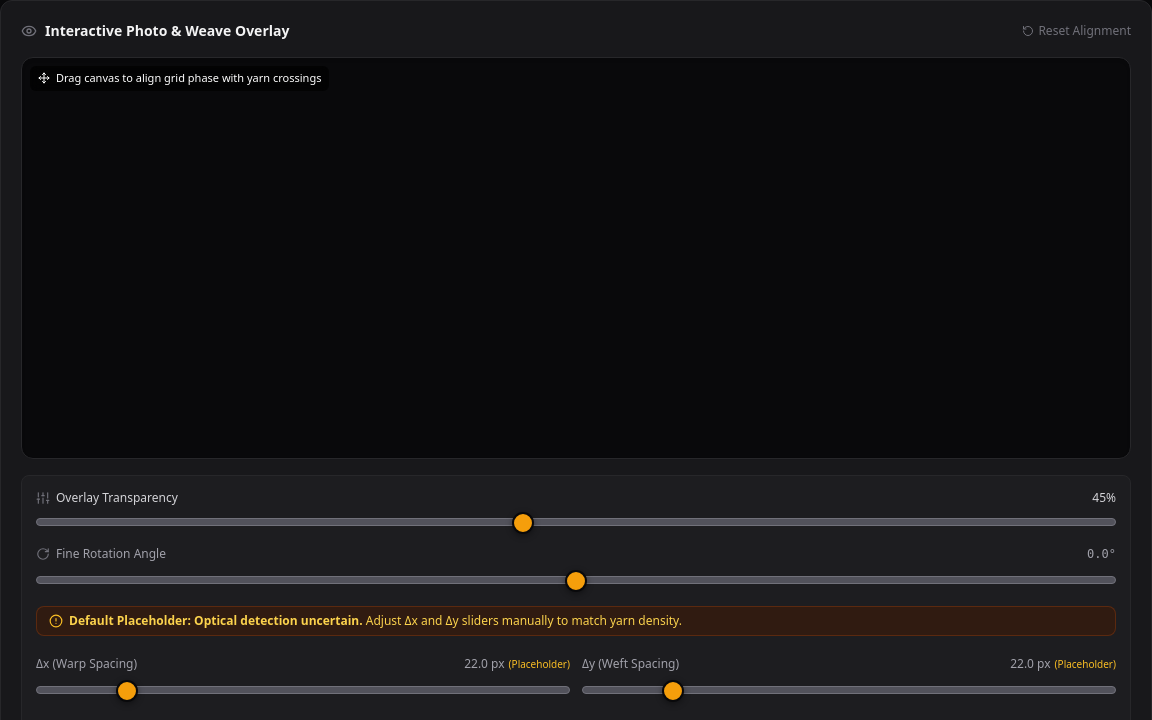
Issue #4: Canvas Overlay Fine Rotation Angle and Wale Mirroring › resets fine rotation angle and wale mirroring when Reset Alignment is clicked
# Set non-default values
Set the slider named "fine rotation angle" to "-6.2" at (356, 580), box [36,576,1116,584]
(page scrolled)
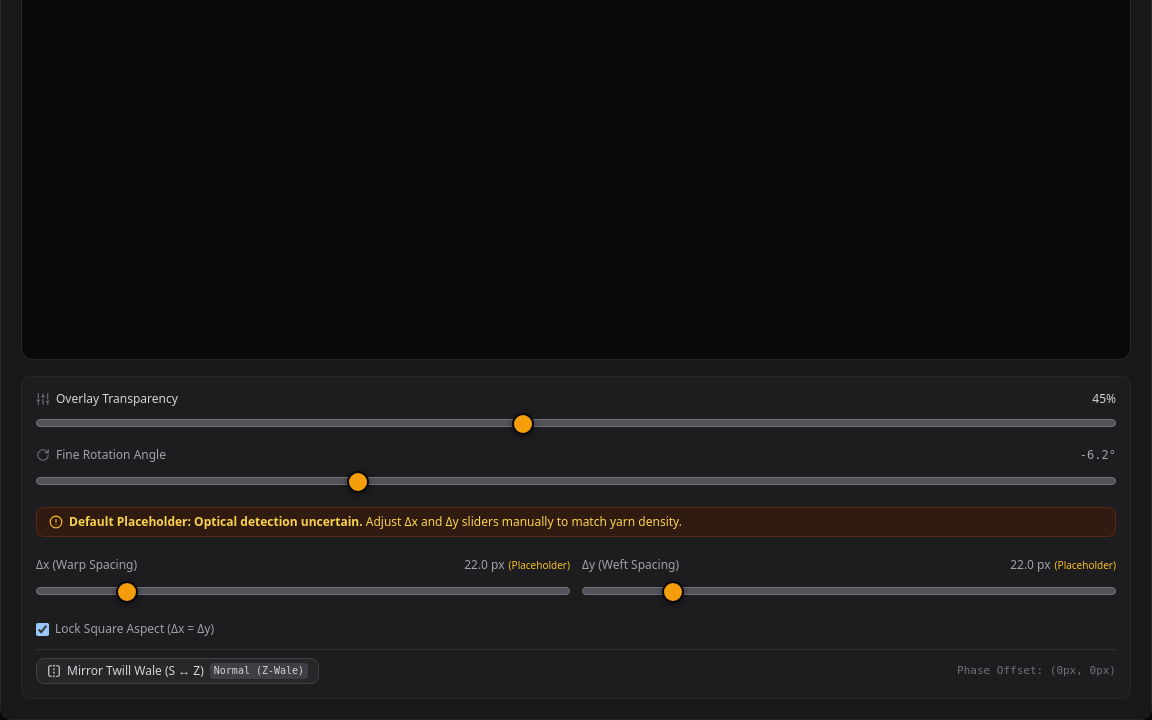
Click the button "Mirror Twill Wale (S ↔ Z) Normal (Z-Wale)" at (178, 671), box [36,658,319,684]
(page scrolled)
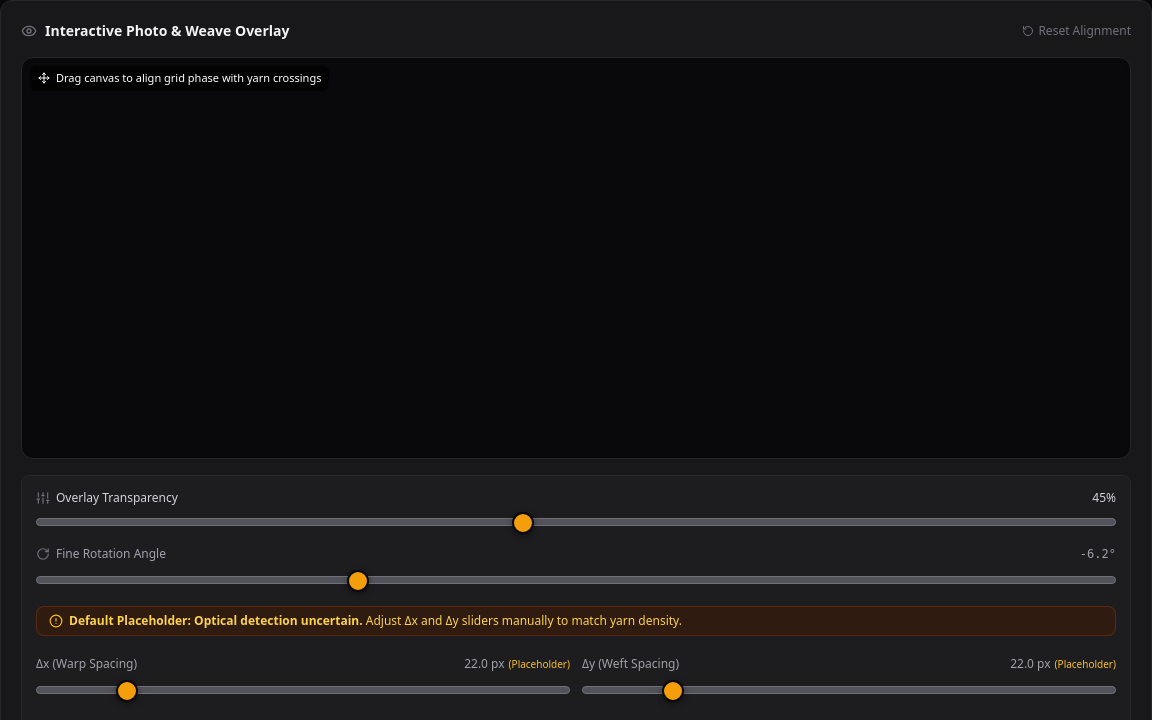
Check: the text "-6.2°" is shown, box [1080,546,1116,562]
# Click reset
Click the button "Reset Alignment" at (1077, 31), box [1022,23,1131,39]
(page scrolled)
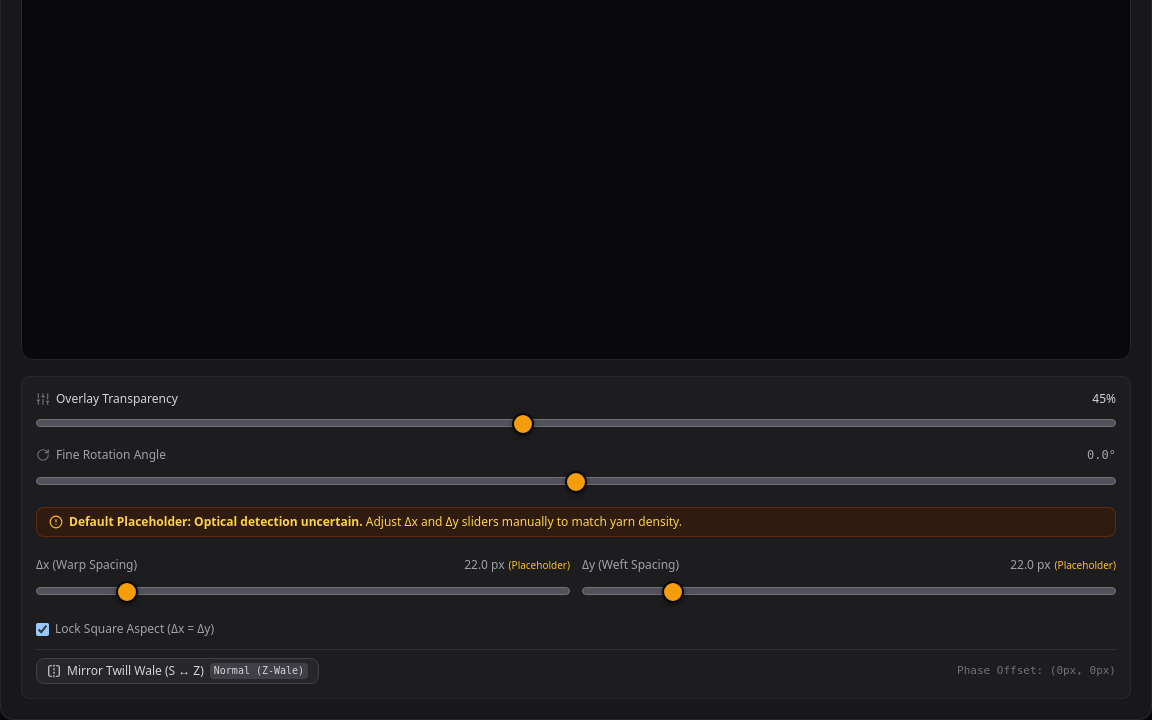
Check: the text "0.0°" is shown, box [1087,447,1116,463]
Check: the text "Normal (Z-Wale)" is shown, box [210,663,308,679]
